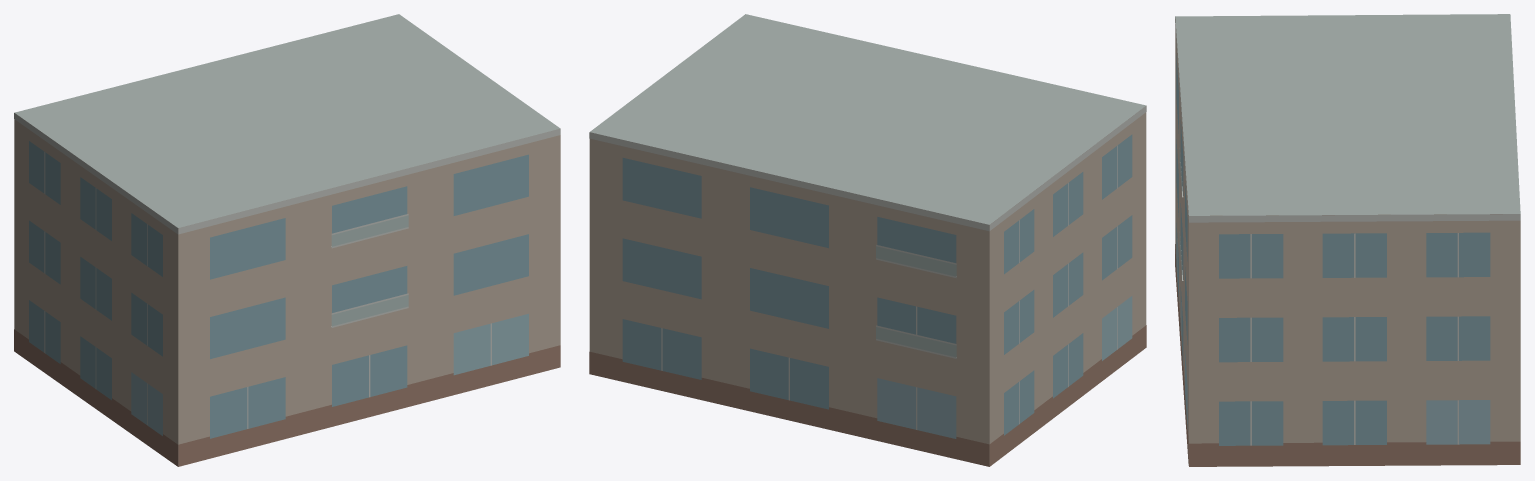
Rendered from survey-upis-32896184.glb.
3 renders of one model, left to right at view 1: azimuth 30°, elevation 25°; view 2: azimuth 150°, elevation 25°; view 3: azimuth 270°, elevation 25°, orthographic. The views are drawn at different scales.
Visible parts, largest first — view 1: survey-upis-32896184.tmp; view 2: survey-upis-32896184.tmp; view 3: survey-upis-32896184.tmp.
Part boxes in pixels (bbox=[...]): survey-upis-32896184.tmp: bbox=[14, 14, 560, 466]; survey-upis-32896184.tmp: bbox=[589, 14, 1146, 466]; survey-upis-32896184.tmp: bbox=[1175, 14, 1520, 466].
Bounding box in the file's own units: 15.8 × 9.15 × 11.42.
